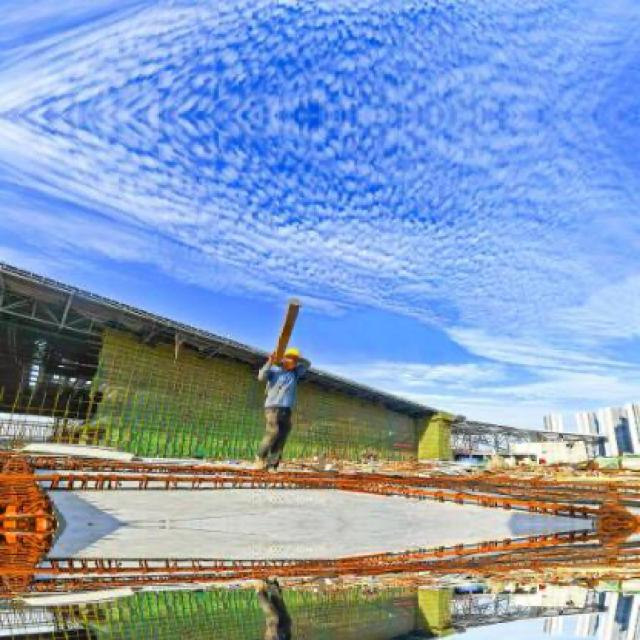con casco: (261, 342, 322, 373)
